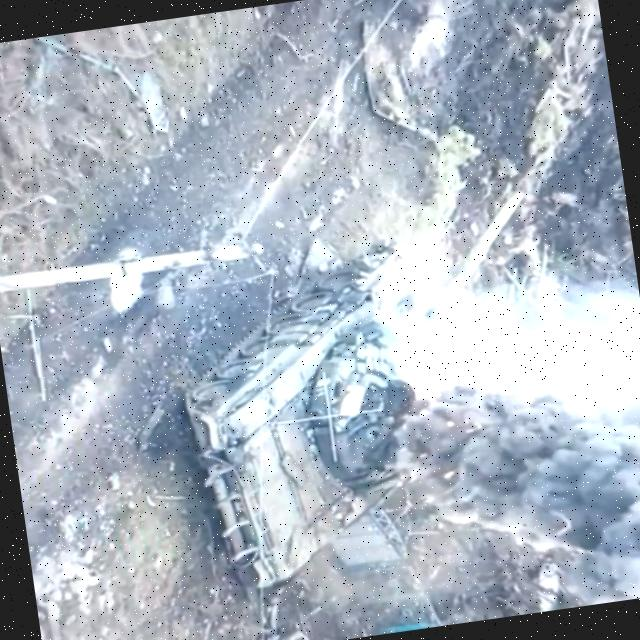Destroyed: (154, 187, 571, 595)
